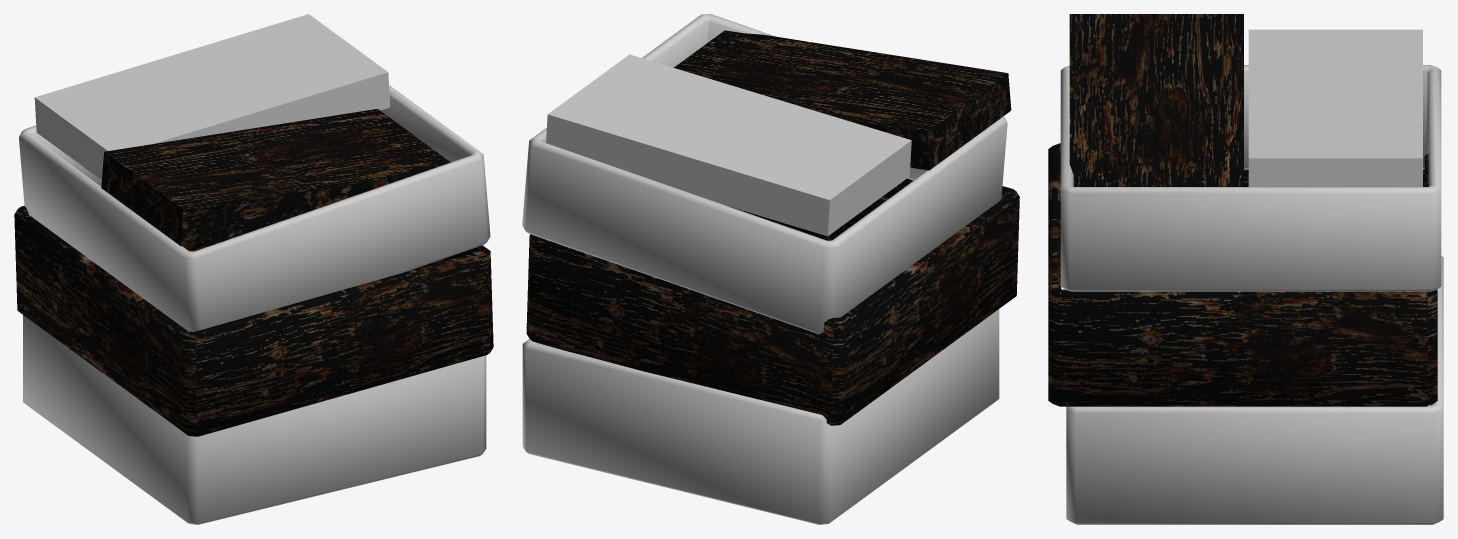
The model's file is Indoor_Drop.fbx.
The picture shows the model from 3 angles, left to right: view 1: azimuth 30°, elevation 25°; view 2: azimuth 150°, elevation 25°; view 3: azimuth 270°, elevation 25°; orthographic projection. The views are drawn at different scales.
Parts seen in each view (by area): view 1: Cube.215, Cube.222, Cube.223; view 2: Cube.215, Cube.222, Cube.223; view 3: Cube.215, Cube.223, Cube.222.
Boxes of the visible parts, left/top/right/bottom form: Cube.215: left=14, top=85, right=493, bottom=524; Cube.222: left=34, top=14, right=390, bottom=179; Cube.223: left=101, top=109, right=450, bottom=246; Cube.215: left=522, top=14, right=1019, bottom=524; Cube.222: left=546, top=54, right=911, bottom=236; Cube.223: left=674, top=30, right=1011, bottom=170; Cube.215: left=1048, top=65, right=1443, bottom=524; Cube.223: left=1069, top=14, right=1243, bottom=186; Cube.222: left=1248, top=29, right=1422, bottom=186.
Size of the model in its own units: 198 by 197 by 197.
